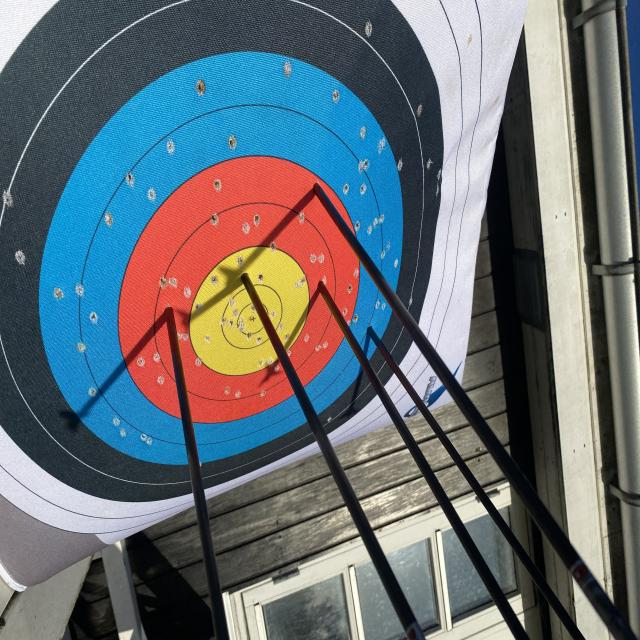Arrow_Blue: (360, 311, 386, 350)
Arrow_Red: (154, 291, 182, 334), (305, 267, 334, 298), (302, 175, 331, 204)
Arrow_Yellow: (233, 260, 261, 300)
